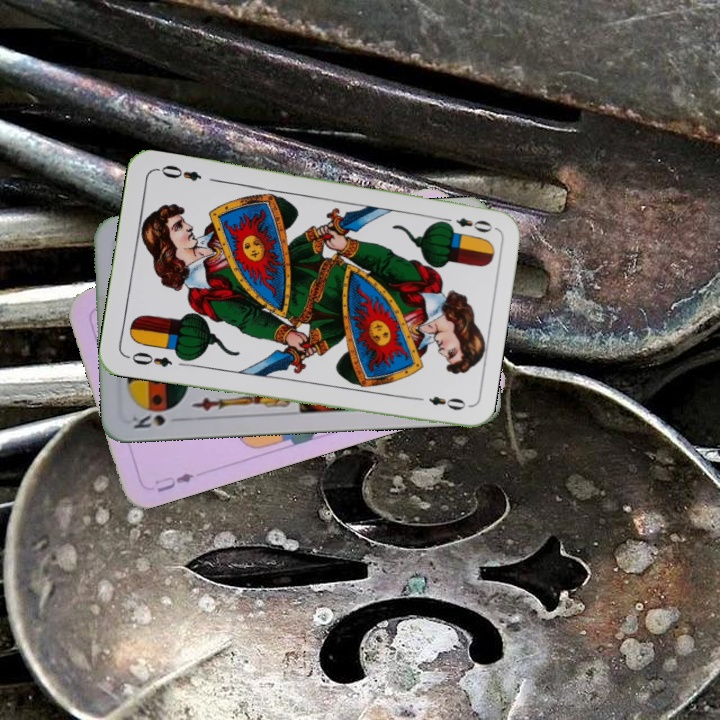EO: (437, 213, 495, 235), (123, 348, 175, 370)
EU: (150, 468, 197, 495)
SK: (128, 410, 185, 431)
